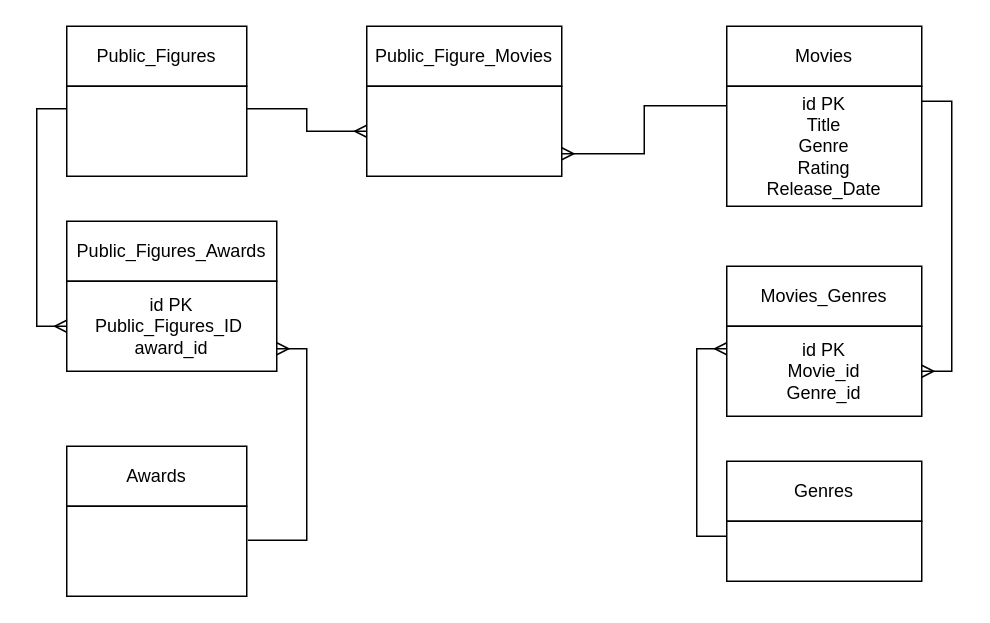
Some shapes in this 990 by 623 pixel diagram are drawn without their labels. The shapes that lost their labels are listed below. From the top down, each one's box as (x1, y1, x2, y2) in pixels, then its label:
(65, 85, 247, 176): id PK firstname lastname
(365, 85, 562, 176): id PK Public_Figures_ID FK Movies_ID
(65, 505, 247, 596): id PK title
(725, 520, 922, 581): id genre_name
